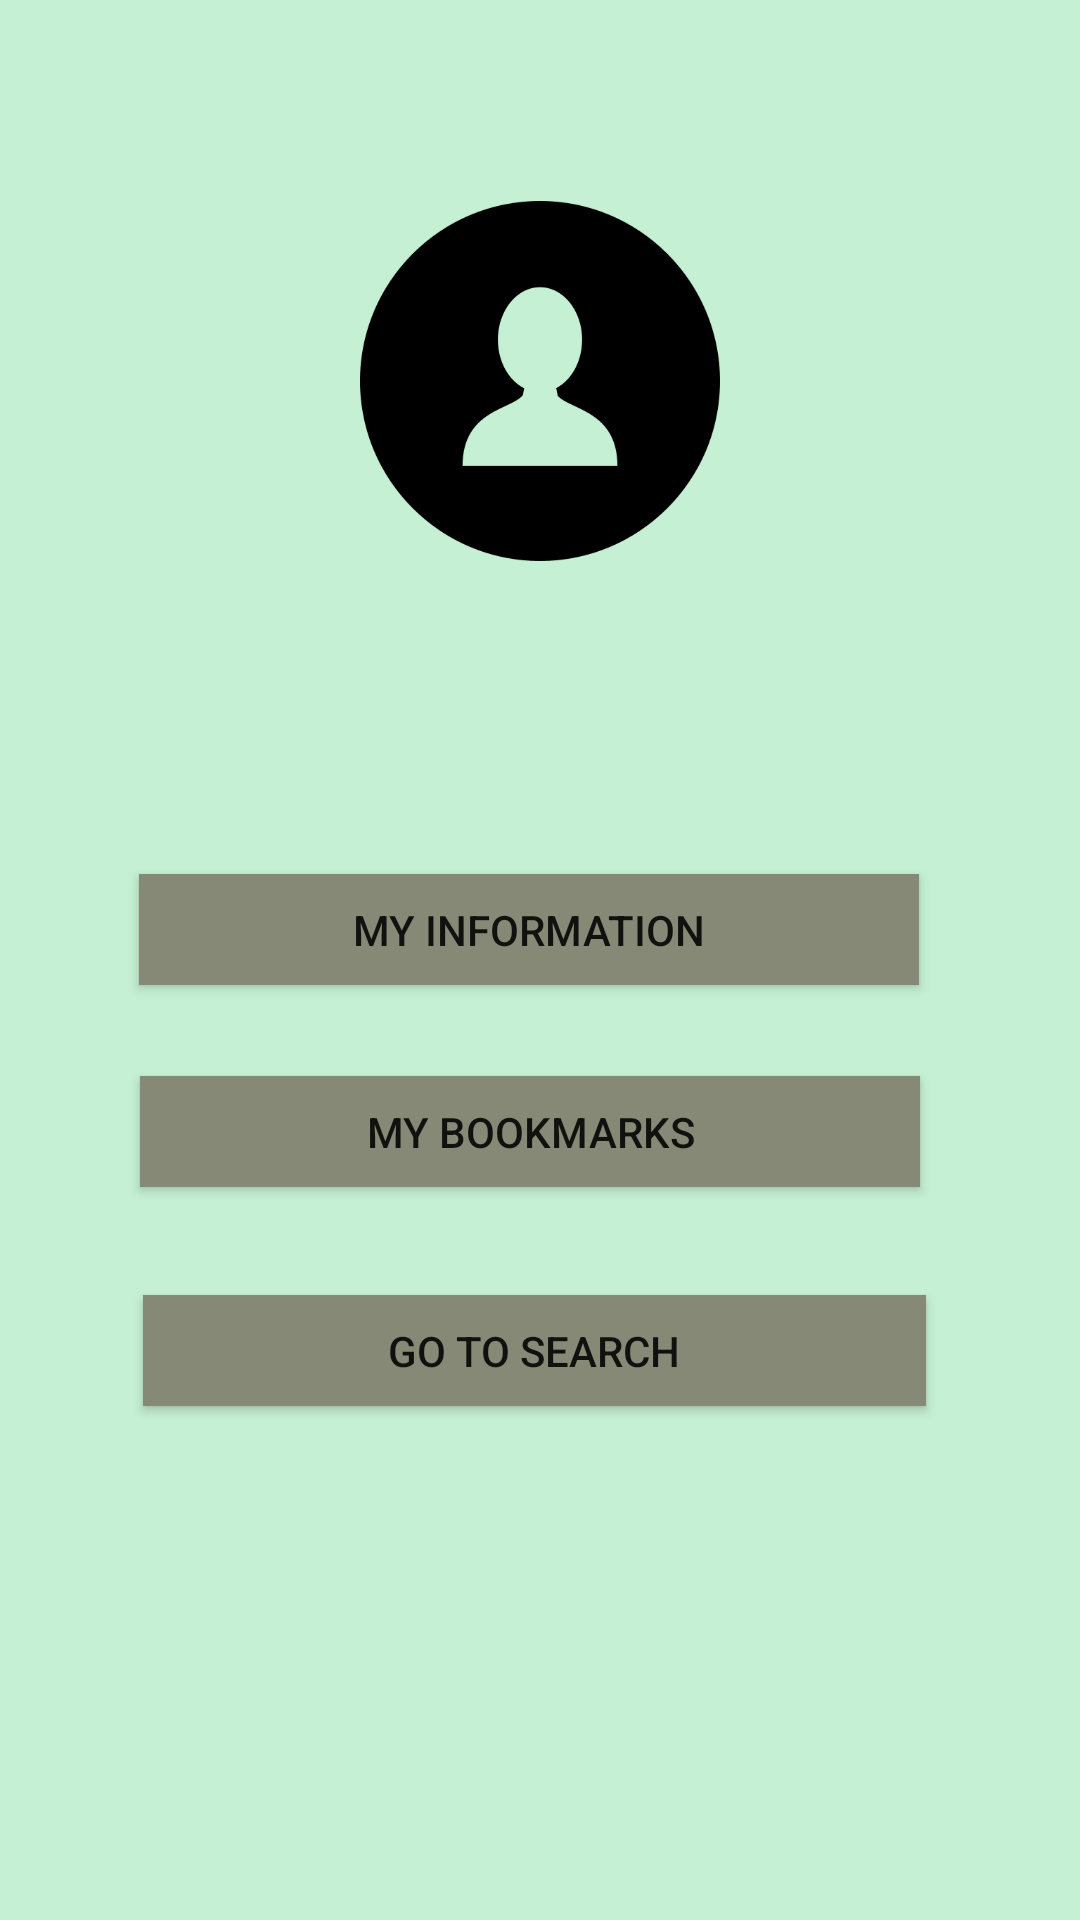

Where icons sit on this 1080px×1920px app screen, as (x1,y1,x2,y2):
user: (360,201,720,561)
